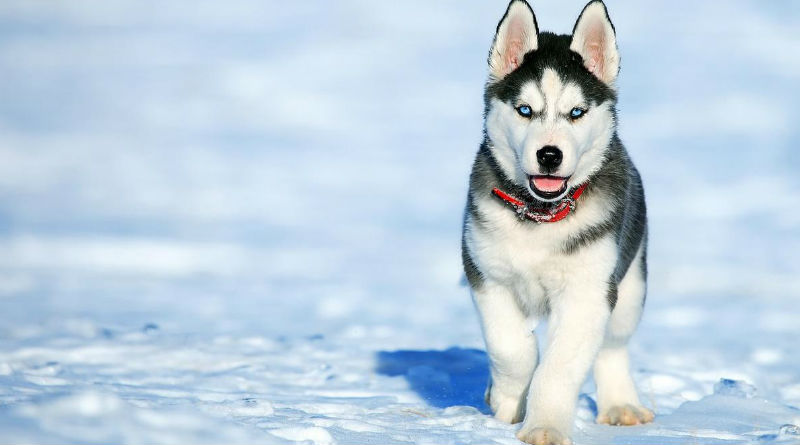husky: (449, 6, 646, 435)
